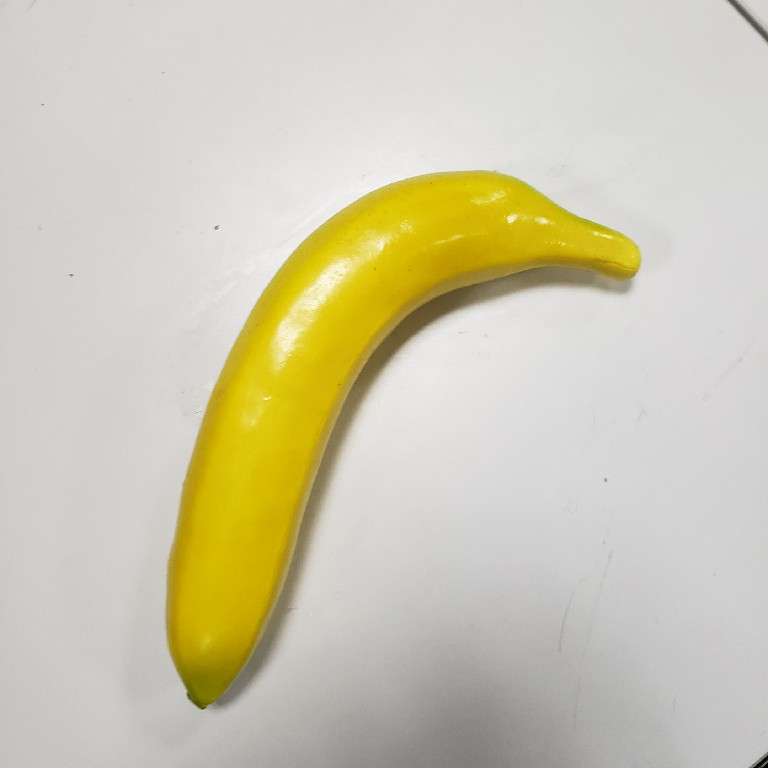fruit_banana: (150, 154, 646, 718)
